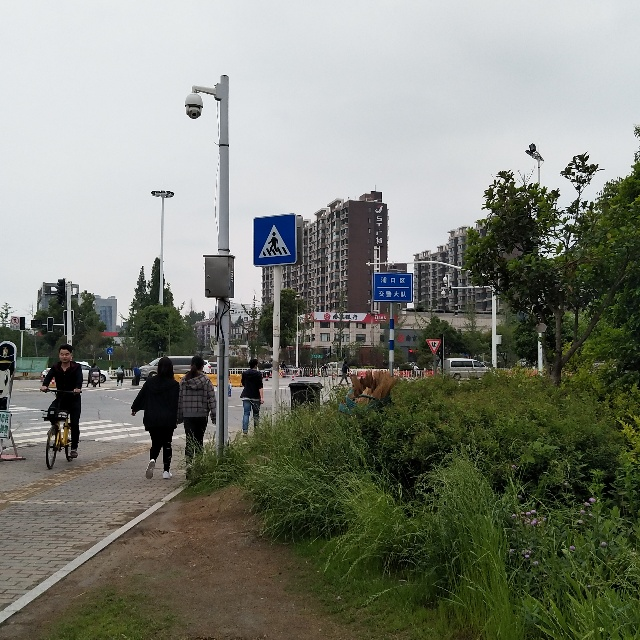crosswalk: (255, 213, 297, 262)
